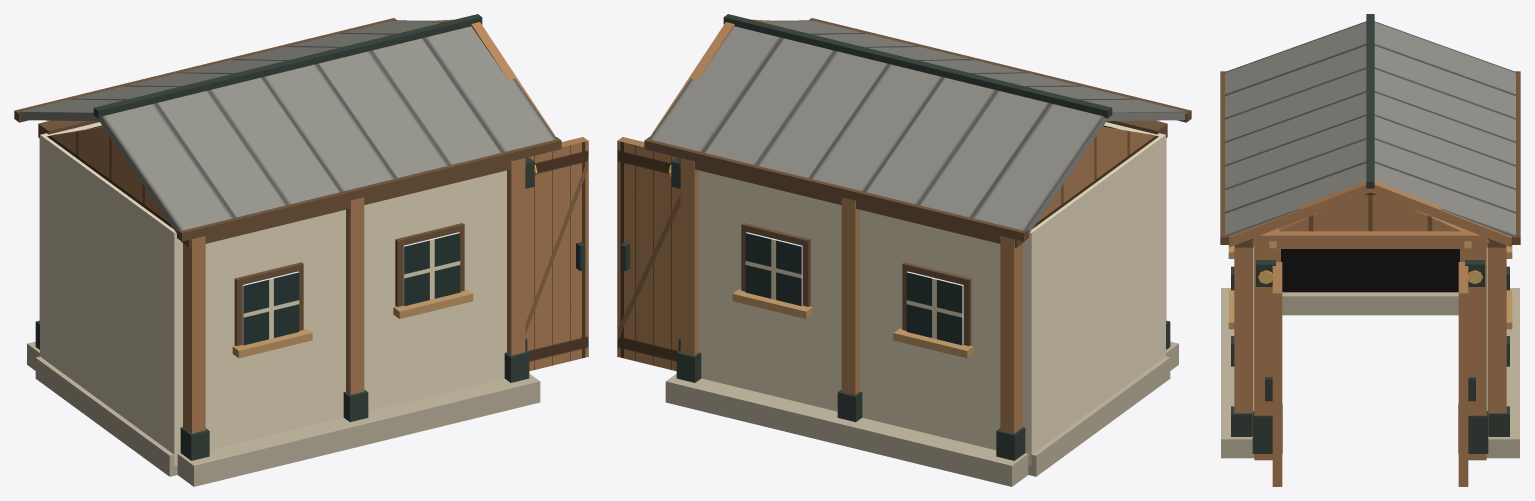
Rendered from spawn-station.glb.
The picture shows the model from 3 angles, left to right: view 1: azimuth 30°, elevation 25°; view 2: azimuth 150°, elevation 25°; view 3: azimuth 270°, elevation 25°; orthographic projection. The views are drawn at different scales.
Parts seen in each view (by area): view 1: Mesh_GarageEnvelope_FacilityDetailPaint, Mesh_GarageRoof_FacilityDetailPaint, Mesh_DoorLeft_FacilityDetailPaint, Mesh_TerminalRole_FacilityDetailPaint; view 2: Mesh_GarageEnvelope_FacilityDetailPaint, Mesh_GarageRoof_FacilityDetailPaint, Mesh_DoorRight_FacilityDetailPaint, Mesh_TerminalRole_FacilityDetailPaint; view 3: Mesh_GarageRoof_FacilityDetailPaint, Mesh_GarageEnvelope_FacilityDetailPaint, Mesh_TerminalRole_FacilityDetailPaint, Mesh_GarageEnvelope_GarageInterior, Mesh_DoorLeft_FacilityDetailPaint, Mesh_DoorRight_FacilityDetailPaint, Mesh_ActivityPulse_brass.
Part boxes in pixels (left/top/right/bottom): Mesh_GarageEnvelope_FacilityDetailPaint: left=14, top=14, right=561, bottom=486; Mesh_GarageRoof_FacilityDetailPaint: left=18, top=20, right=556, bottom=233; Mesh_DoorLeft_FacilityDetailPaint: left=525, top=137, right=588, bottom=371; Mesh_TerminalRole_FacilityDetailPaint: left=430, top=19, right=555, bottom=351; Mesh_GarageEnvelope_FacilityDetailPaint: left=644, top=14, right=1191, bottom=486; Mesh_GarageRoof_FacilityDetailPaint: left=649, top=20, right=1187, bottom=233; Mesh_DoorRight_FacilityDetailPaint: left=617, top=137, right=680, bottom=371; Mesh_TerminalRole_FacilityDetailPaint: left=650, top=19, right=775, bottom=351; Mesh_GarageRoof_FacilityDetailPaint: left=1225, top=21, right=1515, bottom=236; Mesh_GarageEnvelope_FacilityDetailPaint: left=1220, top=14, right=1520, bottom=458; Mesh_TerminalRole_FacilityDetailPaint: left=1228, top=181, right=1512, bottom=460; Mesh_GarageEnvelope_GarageInterior: left=1281, top=249, right=1459, bottom=292; Mesh_DoorLeft_FacilityDetailPaint: left=1265, top=262, right=1282, bottom=486; Mesh_DoorRight_FacilityDetailPaint: left=1458, top=262, right=1475, bottom=486; Mesh_ActivityPulse_brass: left=1258, top=270, right=1482, bottom=283.
Size of the model in its own units: 1.26 by 0.8779 by 0.8318.
Materials: 4 (2 with a texture image).
